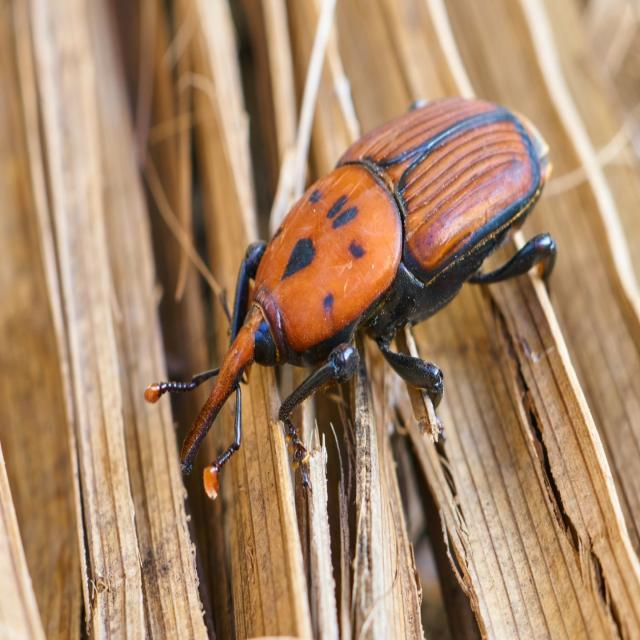Red-palm-weevil: (133, 90, 560, 502)
